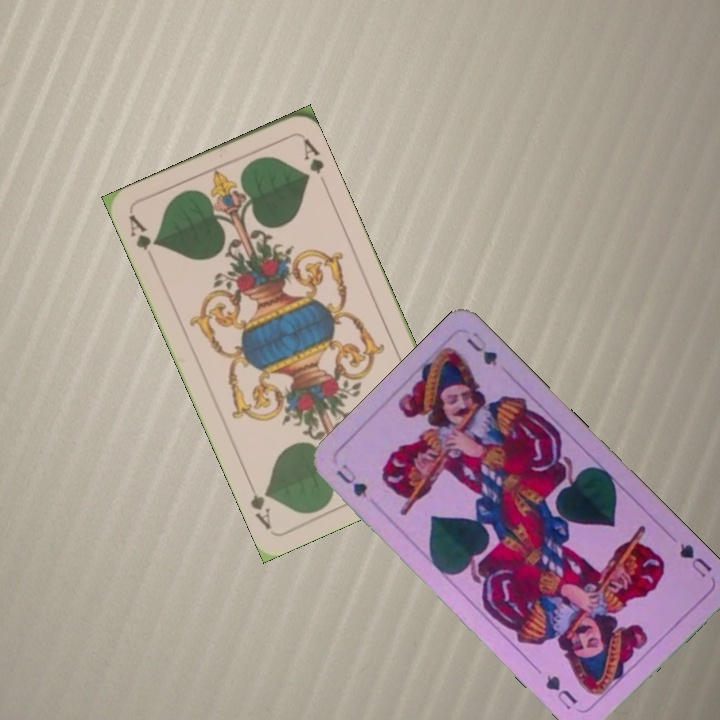GA: (124, 210, 161, 253)
GU: (675, 539, 715, 581), (332, 460, 370, 501)
